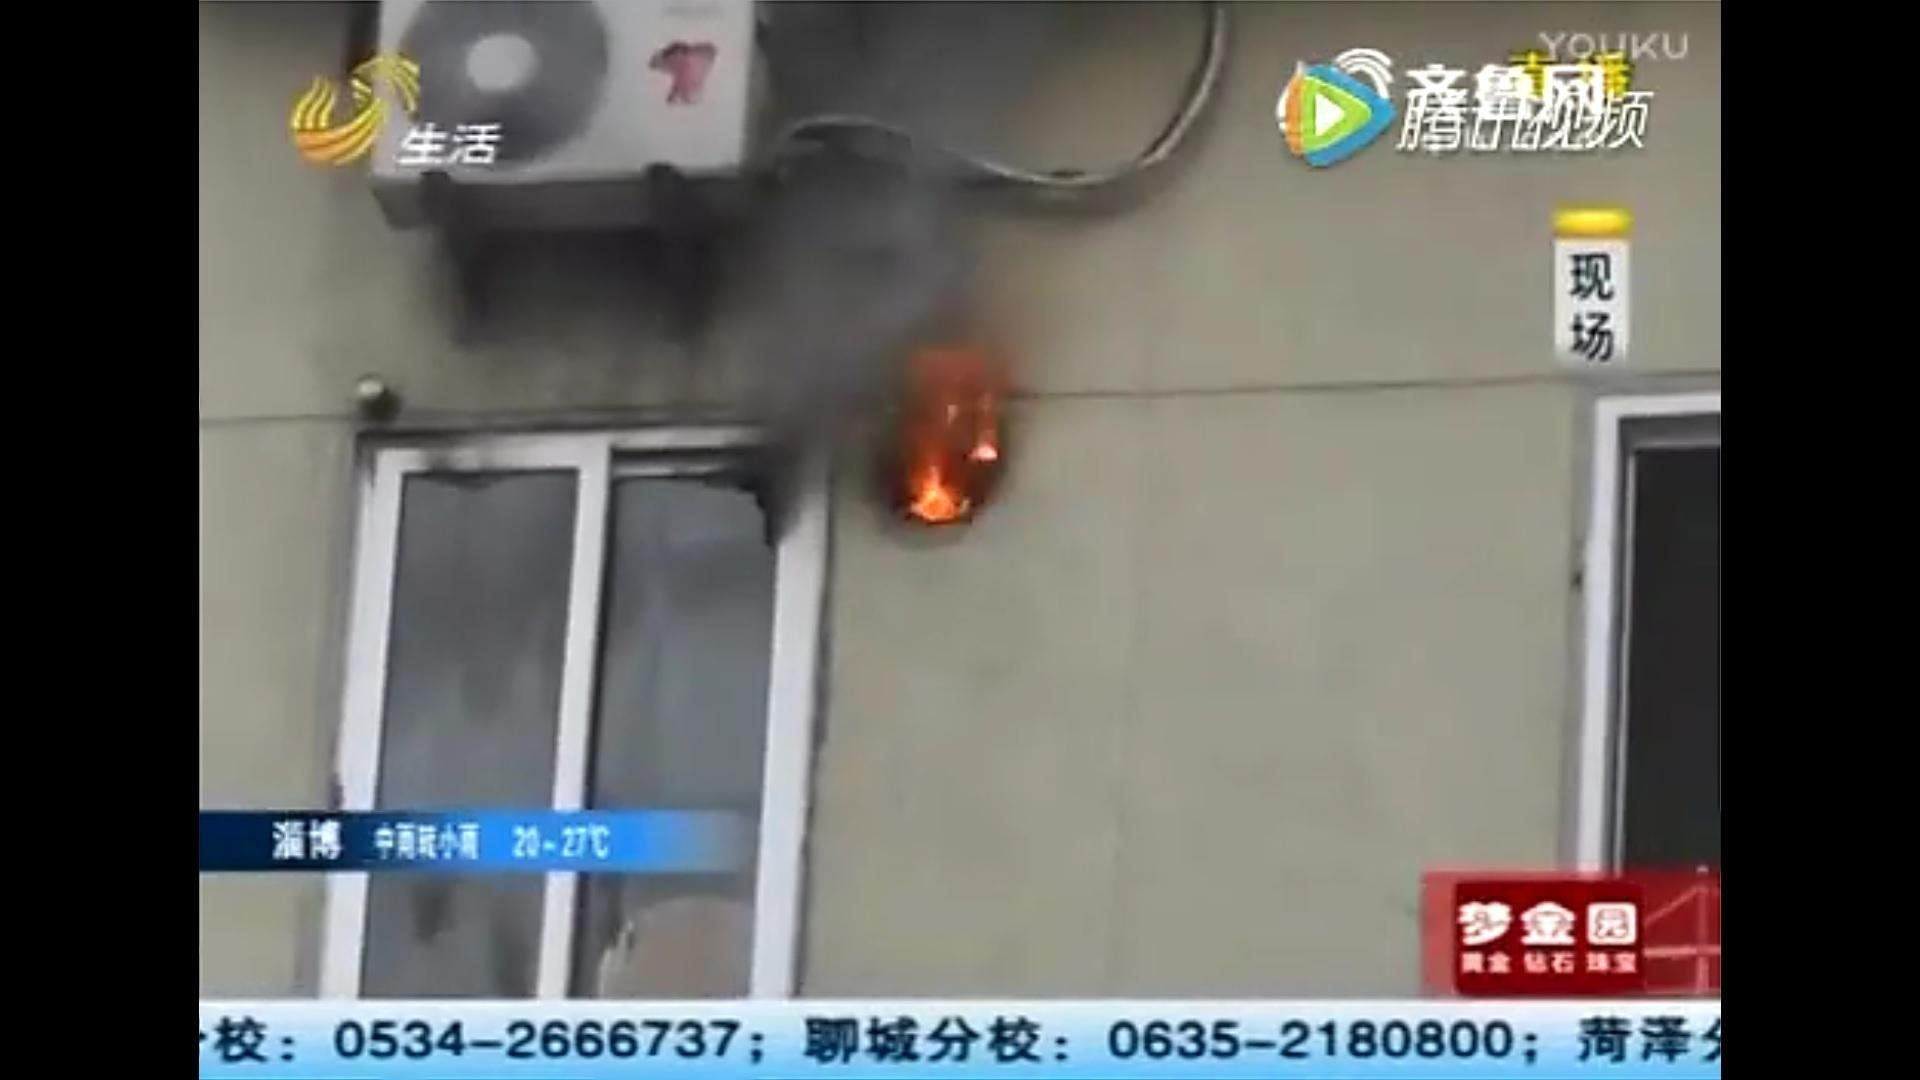fire: (898, 367, 1006, 525)
